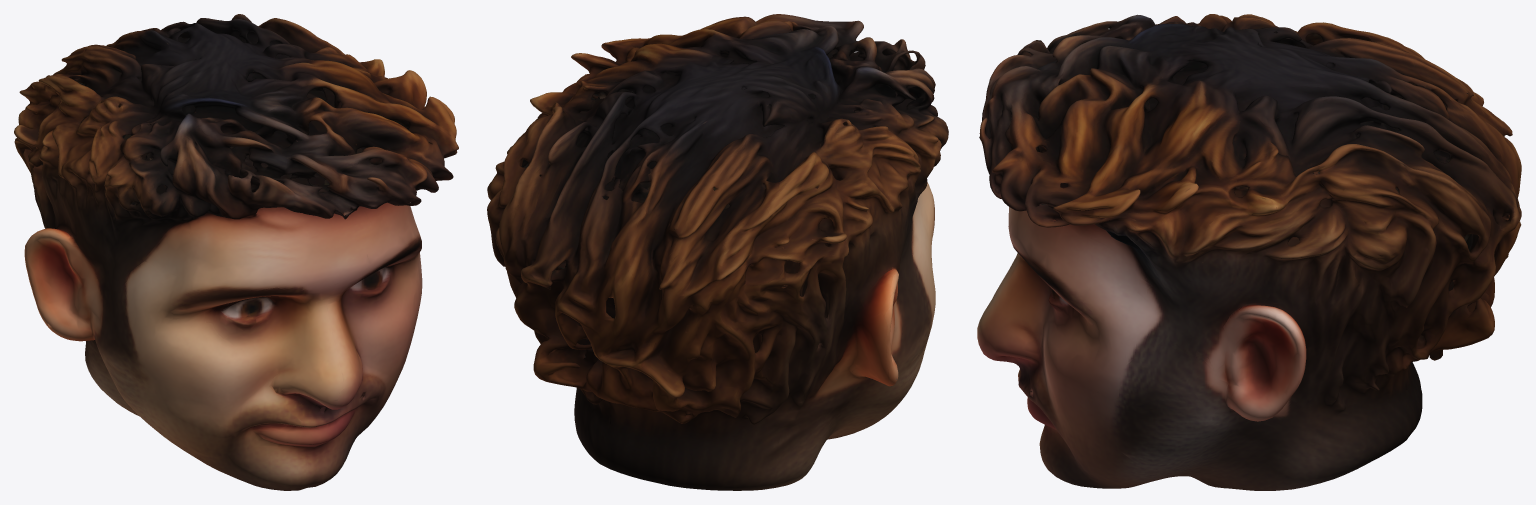
The model's file is omer-refined.glb.
3 renders of one model, left to right at view 1: azimuth 30°, elevation 25°; view 2: azimuth 150°, elevation 25°; view 3: azimuth 270°, elevation 25°, orthographic. The views are drawn at different scales.
Parts seen in each view (by area): view 1: Omer refined head; view 2: Omer refined head; view 3: Omer refined head.
Part boxes in pixels (box(x1,y1,x2,y2)): Omer refined head: box(14, 14, 458, 490); Omer refined head: box(487, 14, 948, 490); Omer refined head: box(977, 14, 1521, 490).
Bounding box in the file's own units: 0.8289 × 0.8122 × 0.9533.
Materials: 1 (1 with a texture image).
